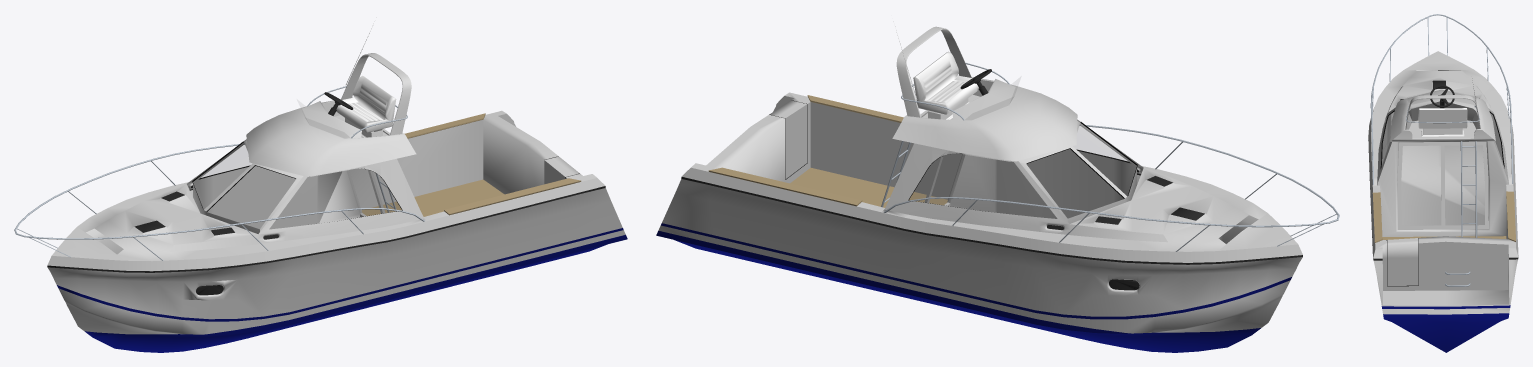
The model's file is 5086Boat_Collision.FBX.
3 views of the same model, side by side, from view 1: azimuth 30°, elevation 25°; view 2: azimuth 150°, elevation 25°; view 3: azimuth 270°, elevation 25° (orthographic). The views are drawn at different scales.
Parts seen in each view (by area): view 1: WHITE PLST, BLUE PLAST, boat wood, BLACK PLAS, white mate, CHROME, GLASS; view 2: WHITE PLST, BLUE PLAST, boat wood, BLACK PLAS, CHROME, white mate, GLASS, BLACK mate; view 3: WHITE PLST, BLUE PLAST, CHROME, white mate, boat wood, BLACK PLAS, BLACK mate.
Boxes of the visible parts, bbox=[...] form: WHITE PLST: bbox=[47, 28, 625, 334]; BLUE PLAST: bbox=[57, 228, 627, 352]; boat wood: bbox=[361, 113, 581, 216]; BLACK PLAS: bbox=[47, 92, 605, 295]; white mate: bbox=[333, 75, 396, 137]; CHROME: bbox=[14, 86, 424, 260]; GLASS: bbox=[199, 117, 401, 215]; WHITE PLST: bbox=[658, 26, 1302, 333]; BLUE PLAST: bbox=[656, 223, 1291, 352]; boat wood: bbox=[708, 95, 947, 207]; BLACK PLAS: bbox=[681, 69, 1302, 290]; CHROME: bbox=[881, 62, 1339, 251]; white mate: bbox=[913, 51, 978, 119]; GLASS: bbox=[910, 97, 1129, 205]; BLACK mate: bbox=[769, 100, 1137, 211]; WHITE PLST: bbox=[1368, 51, 1518, 314]; BLUE PLAST: bbox=[1381, 305, 1510, 352]; CHROME: bbox=[1370, 14, 1513, 286]; white mate: bbox=[1418, 108, 1467, 136]; boat wood: bbox=[1372, 191, 1515, 242]; BLACK PLAS: bbox=[1368, 80, 1518, 260]; BLACK mate: bbox=[1380, 110, 1504, 286].
Size of the model in its own units: 13.1 by 5.9 by 3.87.
